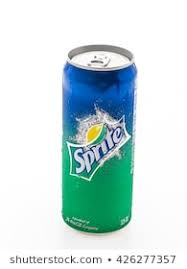sprite_can: (61, 44, 134, 236)
